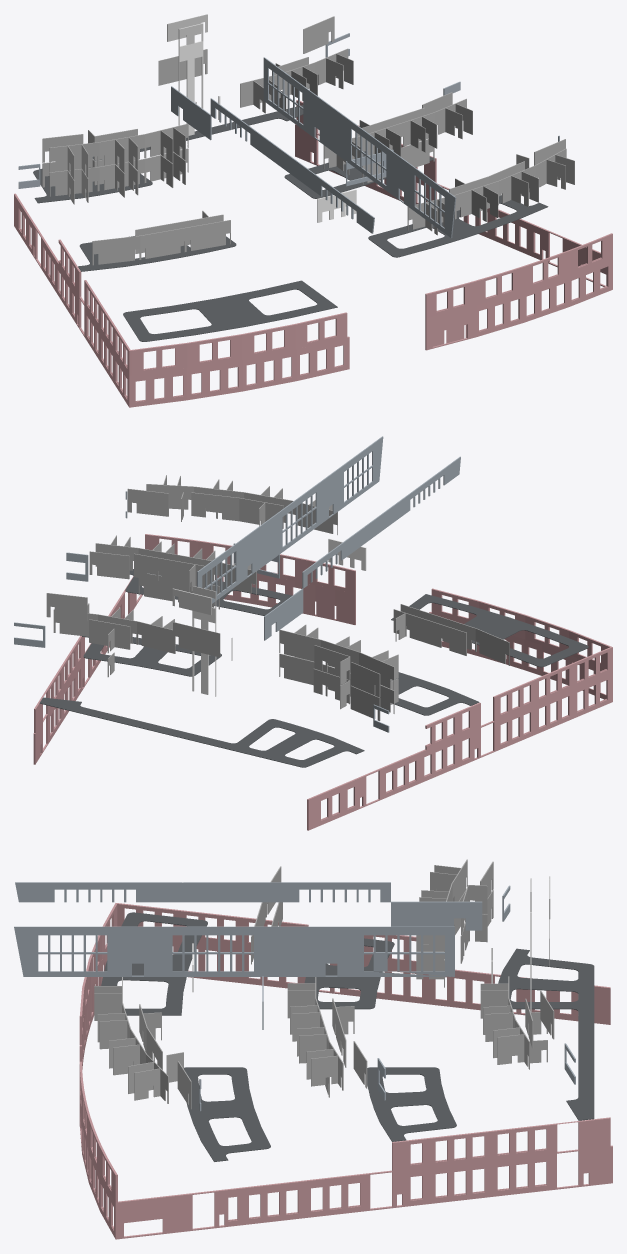
3 views of the same model, one above another, from view 1: azimuth 30°, elevation 25°; view 2: azimuth 150°, elevation 25°; view 3: azimuth 270°, elevation 25° (orthographic). The views are drawn at different scales.
Visible parts, largest first — view 1: 1IjDNnD1b6tenKMZR0qHo2, 1IjDNnD1b6tenKMZR0qHnz, 1IjDNnD1b6tenKMZJ0qEE3, 1IjDNnD1b6tenKKZV0qHkV, 1IjDNnD1b6tenKKZV0qEvg, 1IjDNnD1b6tenKMZR0qHn_, 1IjDNnD1b6tenKMZR0qHkL, 1IjDNnD1b6tenKMZR0qHny, 1IjDNnD1b6tenKKZJ0qEvg, 1IjDNnD1b6tenKKZJ0qEva, 1IjDNnD1b6tenKMZJ0qE6b, 1IjDNnD1b6tenKMZR0qISm (+19 smaller); view 2: 1IjDNnD1b6tenKMZR0qHn_, 1IjDNnD1b6tenKMZJ0qE7U, 1IjDNnD1b6tenKKZV0qEvg, 1IjDNnD1b6tenKKZV0qHko, 1IjDNnD1b6tenKKZJ0qEvg, 1IjDNnD1b6tenKMZJ0qEE3, 1IjDNnD1b6tenKMZR0qHnz, 1IjDNnD1b6tenKKZJ0qEva, 1IjDNnD1b6tenKKZV0qHkV, 1IjDNnD1b6tenKMZR0qHkL, 1IjDNnD1b6tenKMZR0qHny, 1IjDNnD1b6tenKMZR0qHo2 (+31 smaller); view 3: 1IjDNnD1b6tenKMZR0qHny, 1IjDNnD1b6tenKKZV0qEvg, 1IjDNnD1b6tenKKZJ0qEvg, 1IjDNnD1b6tenKKZJ0qEva, 1IjDNnD1b6tenKMZR0qHn_, 1IjDNnD1b6tenKMZJ0qE7U, 1IjDNnD1b6tenKKZV0qHkJ, 1IjDNnD1b6tenKMZJ0qE6b, 1IjDNnD1b6tenKMZJ0qE71, 1IjDNnD1b6tenKMZJ0qEE3, 1IjDNnD1b6tenKKZV0qHko, 1IjDNnD1b6tenKKZV0qEvb (+15 smaller).
Boxes of the visible parts, <box> form: 1IjDNnD1b6tenKMZR0qHo2: <box>128,336,349,407</box>; 1IjDNnD1b6tenKMZR0qHnz: <box>425,258,612,350</box>; 1IjDNnD1b6tenKMZJ0qEE3: <box>123,280,337,341</box>; 1IjDNnD1b6tenKKZV0qHkV: <box>131,312,347,375</box>; 1IjDNnD1b6tenKKZV0qEvg: <box>263,76,454,237</box>; 1IjDNnD1b6tenKMZR0qHn_: <box>14,193,128,405</box>; 1IjDNnD1b6tenKMZR0qHkL: <box>425,233,612,318</box>; 1IjDNnD1b6tenKMZR0qHny: <box>295,124,606,286</box>; 1IjDNnD1b6tenKKZJ0qEvg: <box>263,57,456,214</box>; 1IjDNnD1b6tenKKZJ0qEva: <box>210,98,374,233</box>; 1IjDNnD1b6tenKMZJ0qE6b: <box>368,195,548,257</box>; 1IjDNnD1b6tenKMZR0qISm: <box>140,220,230,259</box>; 1IjDNnD1b6tenKMZR0qHn_: <box>307,672,611,830</box>; 1IjDNnD1b6tenKMZJ0qE7U: <box>39,697,364,767</box>; 1IjDNnD1b6tenKKZV0qEvg: <box>201,455,381,603</box>; 1IjDNnD1b6tenKKZV0qHko: <box>425,646,612,749</box>; 1IjDNnD1b6tenKKZJ0qEvg: <box>197,436,383,587</box>; 1IjDNnD1b6tenKMZJ0qEE3: <box>391,594,588,667</box>; 1IjDNnD1b6tenKMZR0qHnz: <box>215,574,355,624</box>; 1IjDNnD1b6tenKKZJ0qEva: <box>302,456,460,588</box>; 1IjDNnD1b6tenKKZV0qHkV: <box>431,588,611,668</box>; 1IjDNnD1b6tenKMZR0qHkL: <box>145,534,355,594</box>; 1IjDNnD1b6tenKMZR0qHny: <box>33,576,143,764</box>; 1IjDNnD1b6tenKMZR0qHo2: <box>429,612,612,702</box>; 1IjDNnD1b6tenKMZR0qHny: <box>118,1145,612,1239</box>; 1IjDNnD1b6tenKKZV0qEvg: <box>18,947,454,976</box>; 1IjDNnD1b6tenKKZJ0qEvg: <box>14,926,454,947</box>; 1IjDNnD1b6tenKKZJ0qEva: <box>15,882,390,902</box>; 1IjDNnD1b6tenKMZR0qHn_: <box>172,938,610,1024</box>; 1IjDNnD1b6tenKMZJ0qE7U: <box>498,948,594,1120</box>; 1IjDNnD1b6tenKKZV0qHkJ: <box>392,1117,610,1171</box>; 1IjDNnD1b6tenKMZJ0qE6b: <box>184,1067,270,1161</box>; 1IjDNnD1b6tenKMZJ0qE71: <box>367,1067,456,1141</box>; 1IjDNnD1b6tenKMZJ0qEE3: <box>101,912,207,1015</box>; 1IjDNnD1b6tenKKZV0qHko: <box>115,903,416,966</box>; 1IjDNnD1b6tenKKZV0qEvb: <box>391,901,482,930</box>.
Bounding box in the file's own units: 99.8 × 37.51 × 93.02.
